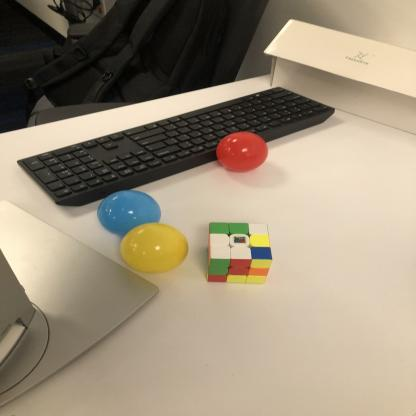UnsolvedCube: (202, 214, 275, 289)
